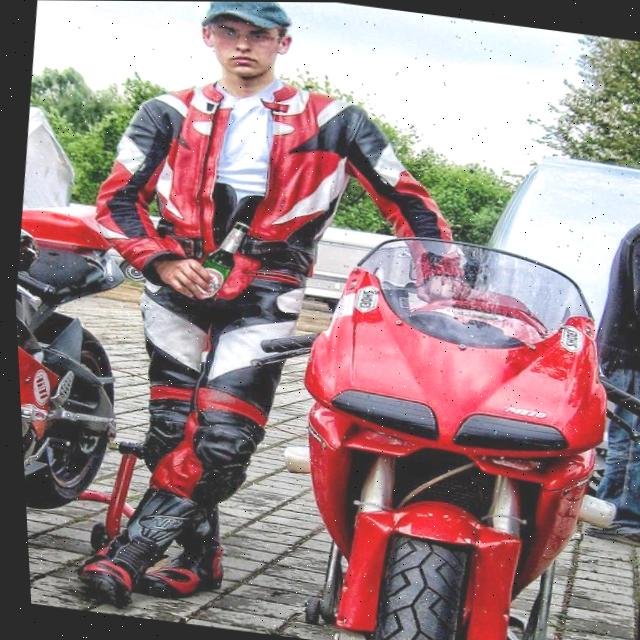motorcycle: (251, 140, 640, 640), (9, 181, 157, 537)
